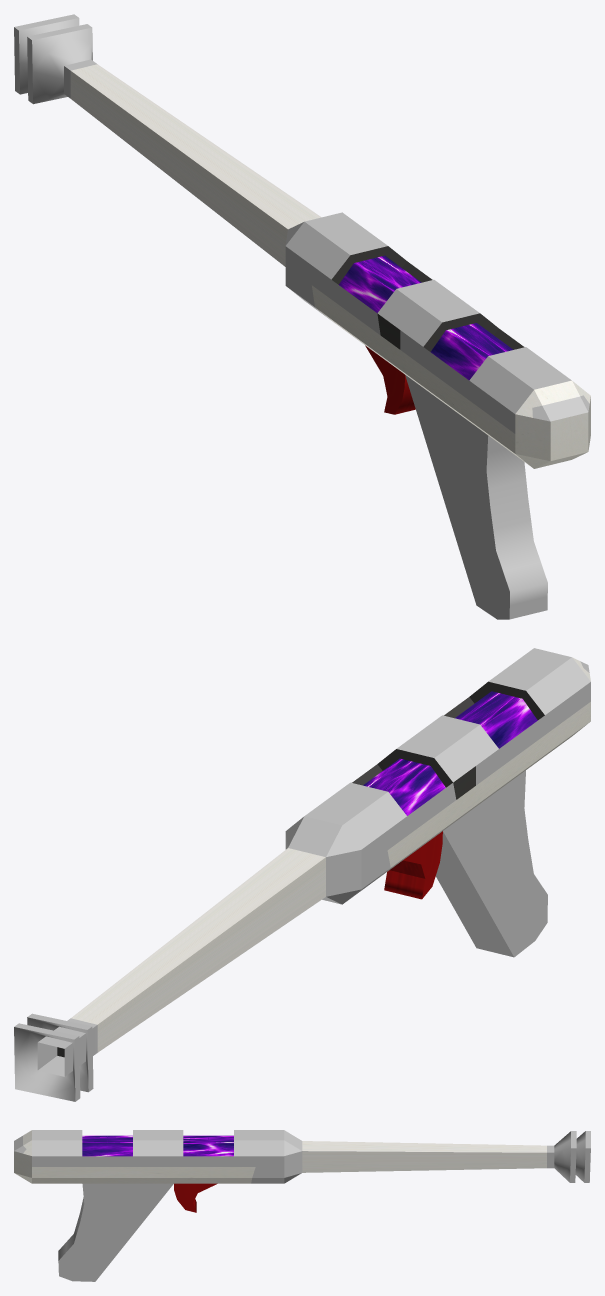
Rendered from OBlaster.fbx.
The picture shows the model from 3 angles, top to bottom: view 1: azimuth 30°, elevation 25°; view 2: azimuth 150°, elevation 25°; view 3: azimuth 270°, elevation 25°; orthographic projection. The views are drawn at different scales.
Parts seen in each view (by area): view 1: pCube2; view 2: pCube2; view 3: pCube2.
Part boxes in pixels (<box>): pCube2: <box>14,14,590,619</box>; pCube2: <box>14,648,590,1101</box>; pCube2: <box>14,1130,590,1281</box>.
Size of the model in its own units: 0.5 by 1.63 by 6.
